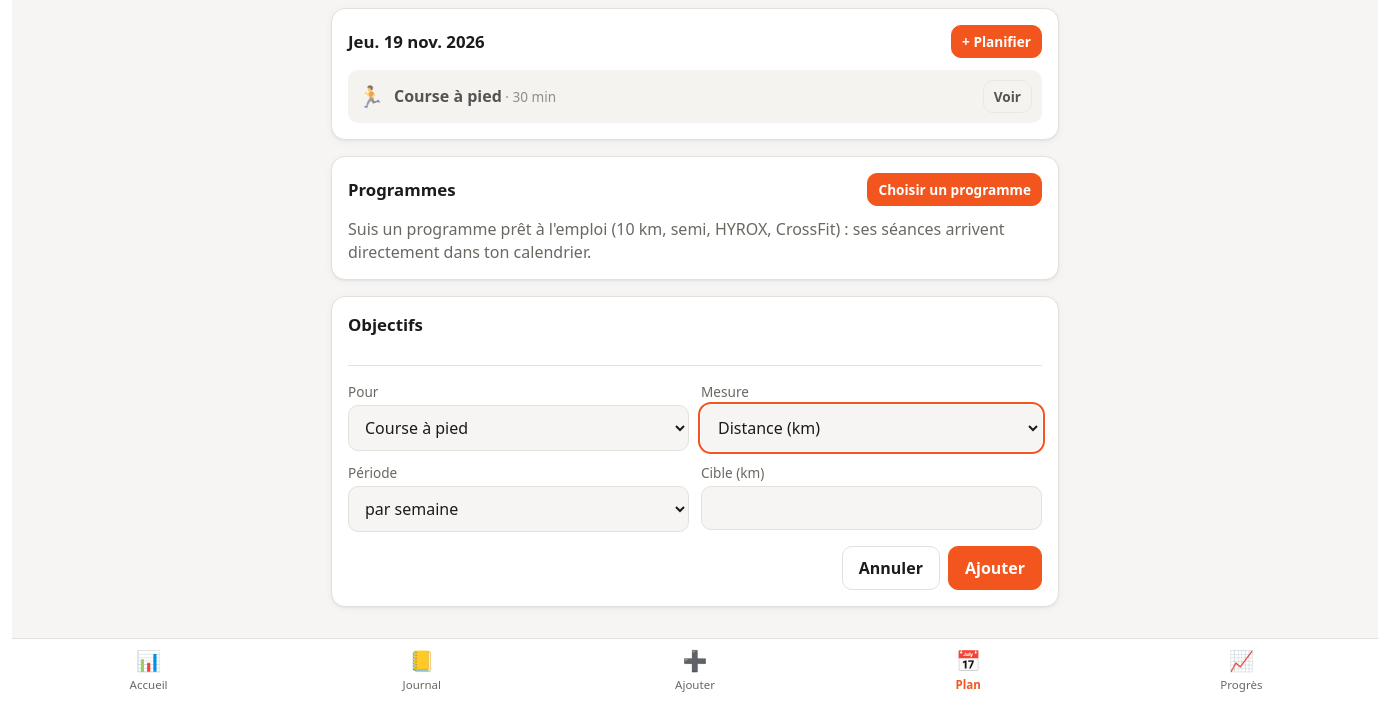
App › crée un objectif et affiche sa progression
Earlier steps of the test are not shown.
(page scrolled)
Type "20" into the field labelled "Cible (km)".
click(872, 508); type("20")  # box [701,486,1042,530]
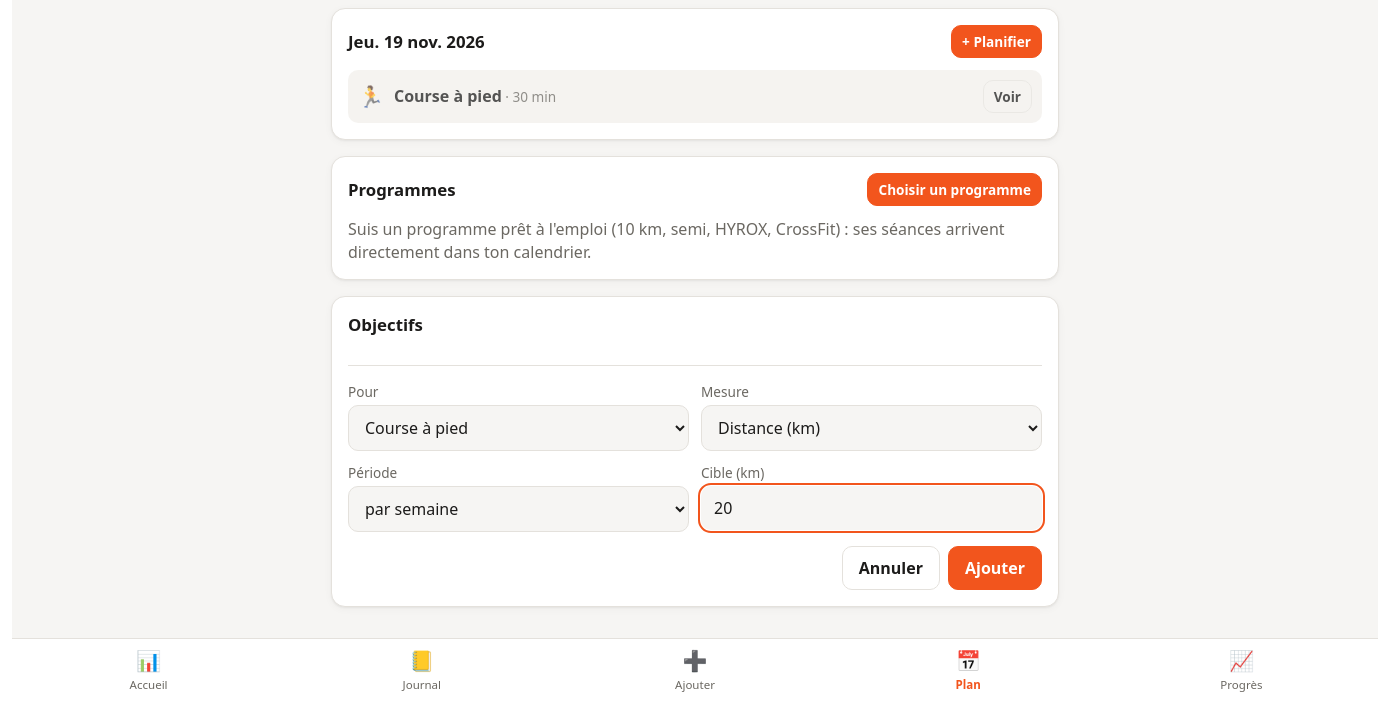
Click the button "Ajouter".
click(995, 568)  # box [948,546,1042,590]
(page scrolled)
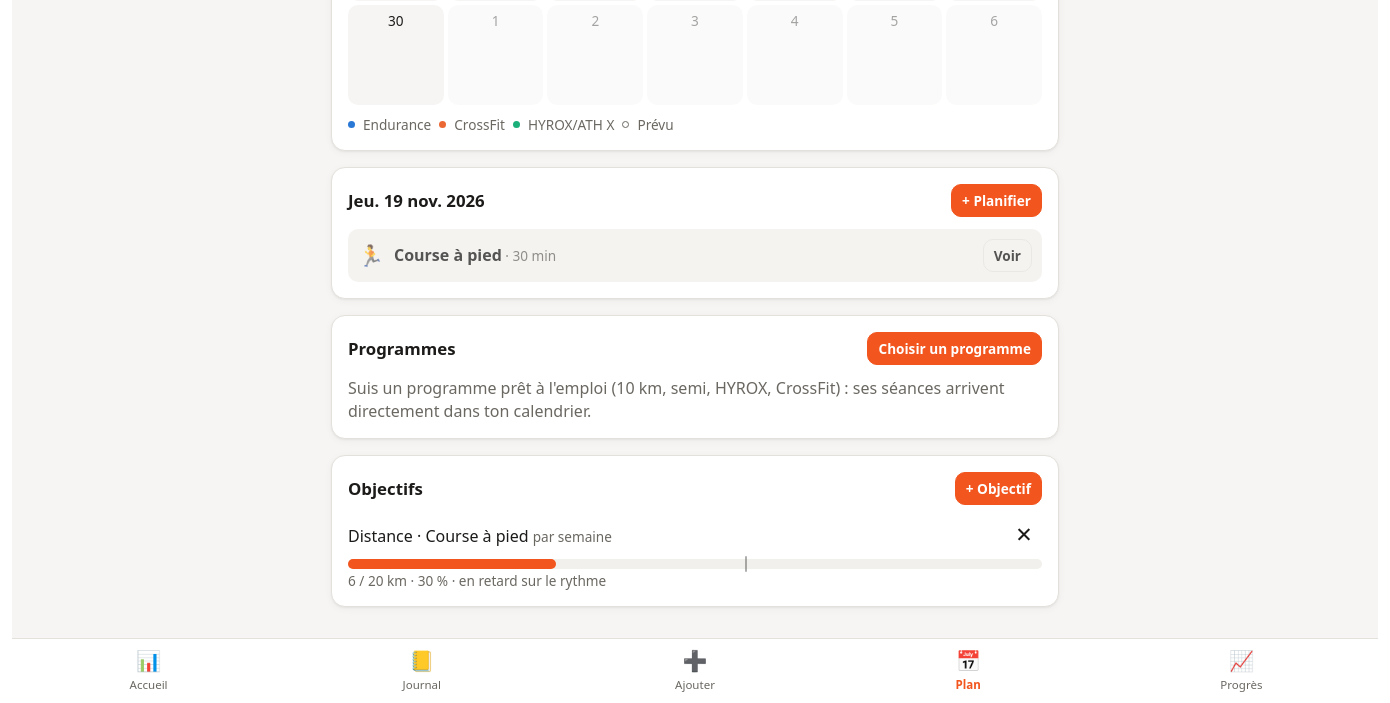
Now the text "6 / 20 km · 30 % · en retard sur le rythme" is shown, box [348,571,606,590]
